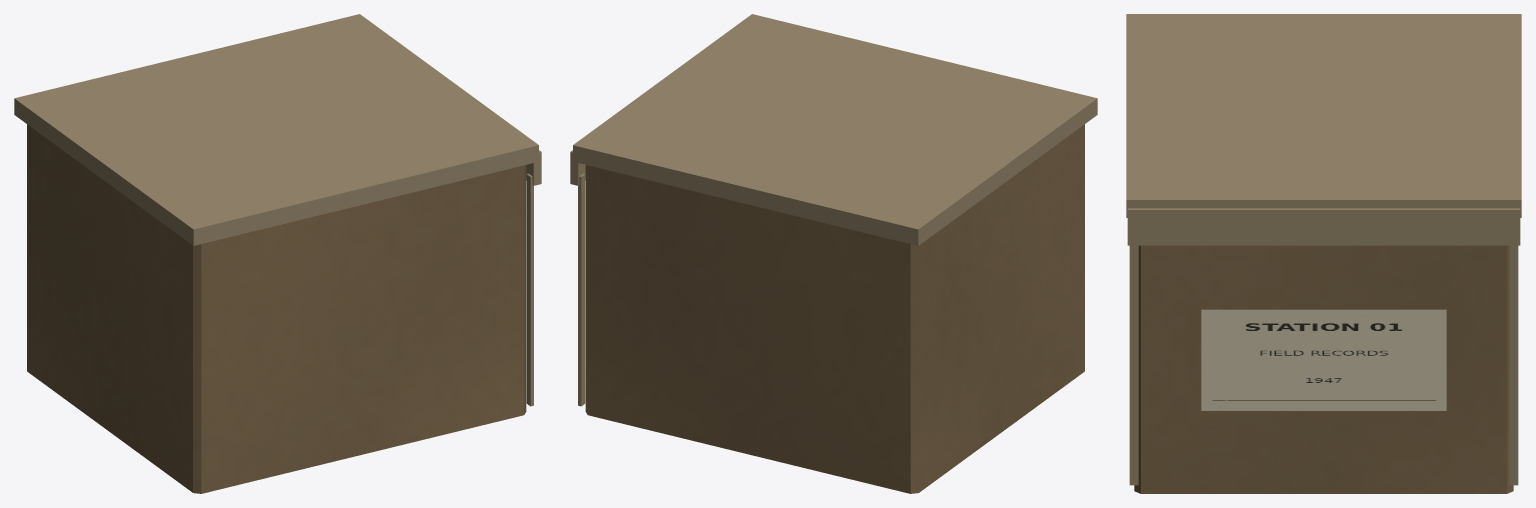
File: SM_ArchiveProps_FieldBox_LOD2.fbx
3 views of the same model, side by side, from view 1: azimuth 30°, elevation 25°; view 2: azimuth 150°, elevation 25°; view 3: azimuth 270°, elevation 25° (orthographic). The views are drawn at different scales.
Visible parts, largest first — view 1: SM_ArchiveProps_FieldBox_LOD2; view 2: SM_ArchiveProps_FieldBox_LOD2; view 3: SM_ArchiveProps_FieldBox_LOD2.
Part boxes in pixels (x1,y1,x2,y2): SM_ArchiveProps_FieldBox_LOD2: (14,14,541,493); SM_ArchiveProps_FieldBox_LOD2: (570,14,1097,493); SM_ArchiveProps_FieldBox_LOD2: (1126,14,1521,493).
Size of the model in its own units: 0.398 by 0.354 by 0.294.
